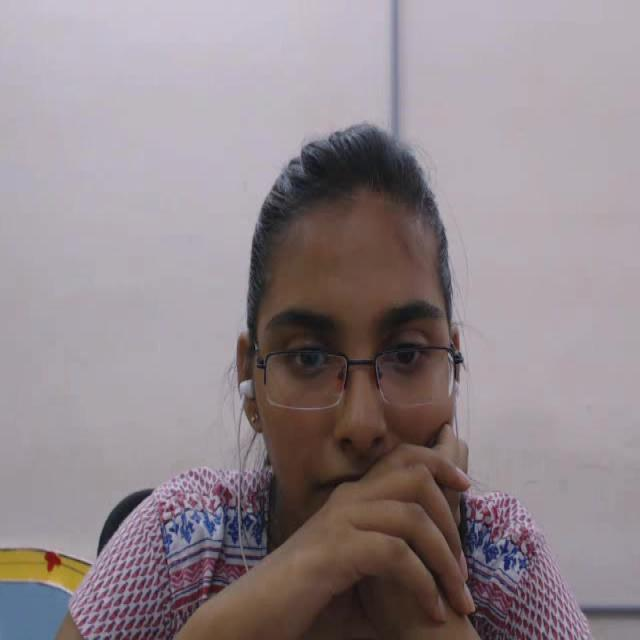Bored: (212, 107, 478, 566)
